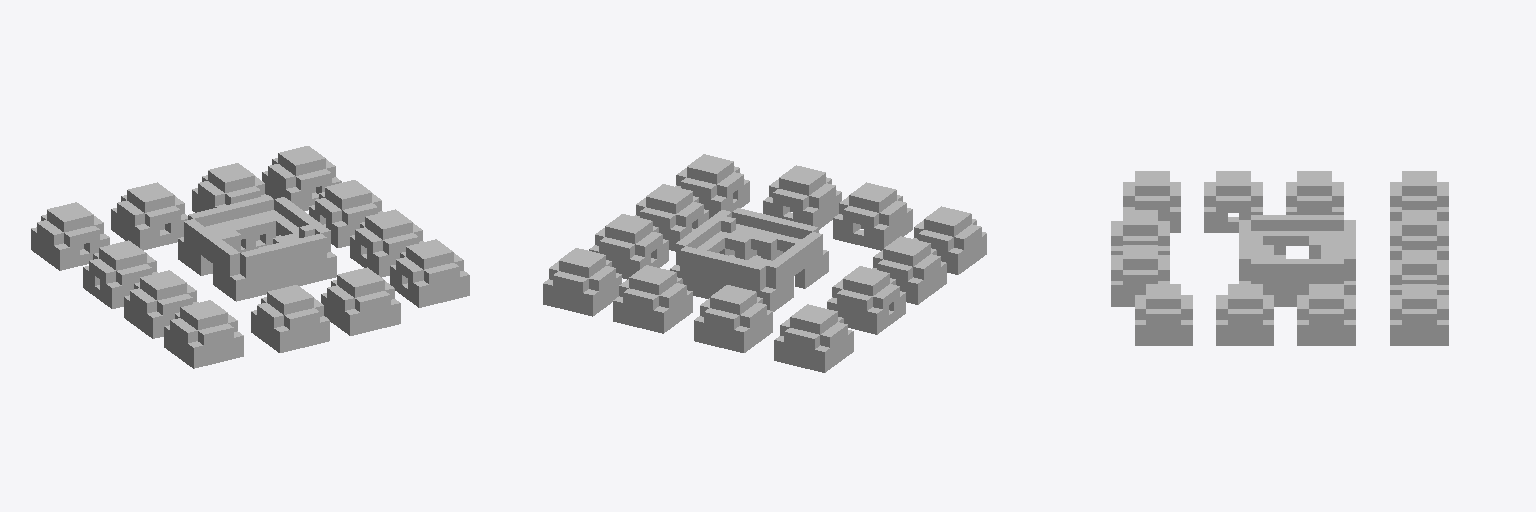
The model's file is mesh_bldg_desert_town.obj.
3 renders of one model, left to right at view 1: azimuth 30°, elevation 25°; view 2: azimuth 150°, elevation 25°; view 3: azimuth 270°, elevation 25°, orthographic.
Size of the model in its own units: 0.875 by 0.125 by 0.9062.